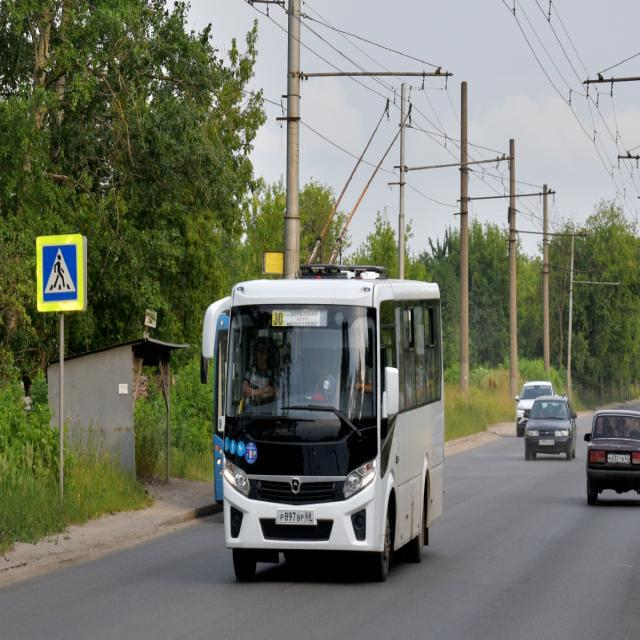number-of-bus: (274, 310, 285, 327)
